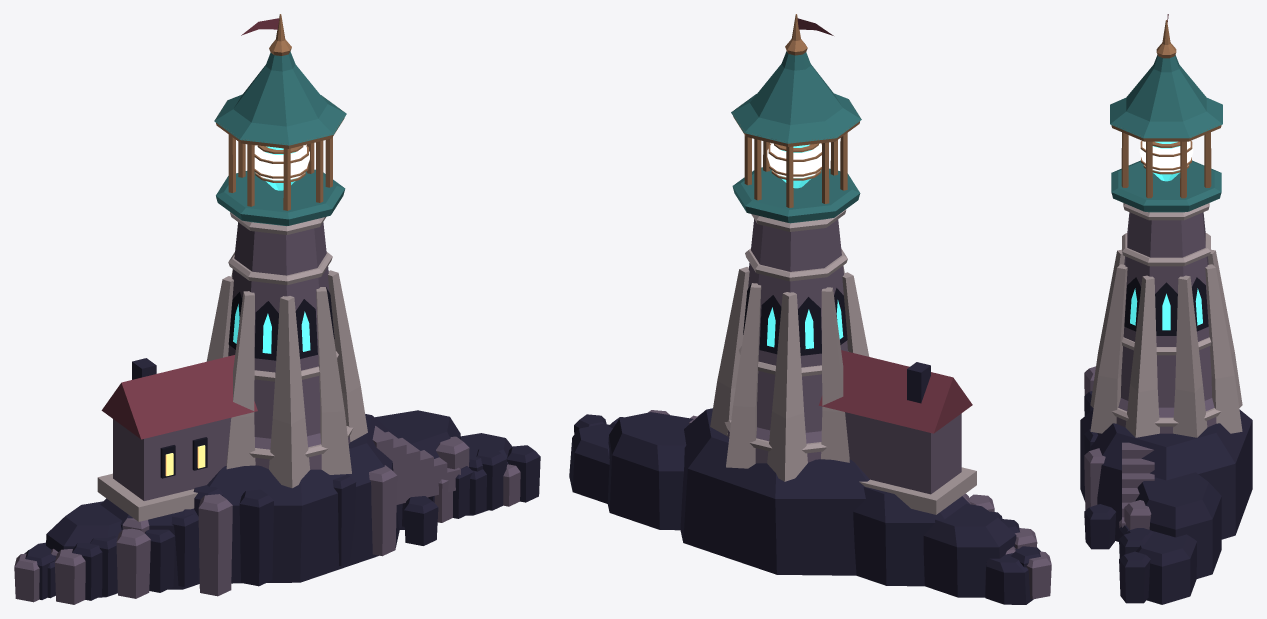
File: hafenfeuer.glb
The picture shows the model from 3 angles, left to right: view 1: azimuth 30°, elevation 25°; view 2: azimuth 150°, elevation 25°; view 3: azimuth 270°, elevation 25°; orthographic projection. The views are drawn at different scales.
Visible parts, largest first — view 1: Hafenfeuer; view 2: Hafenfeuer; view 3: Hafenfeuer.
Part boxes in pixels (x1,y1,x2,y2): Hafenfeuer: [14, 14, 540, 604]; Hafenfeuer: [569, 14, 1051, 604]; Hafenfeuer: [1080, 14, 1252, 604].
Bounding box in the file's own units: 14.39 × 14.5 × 4.71.
